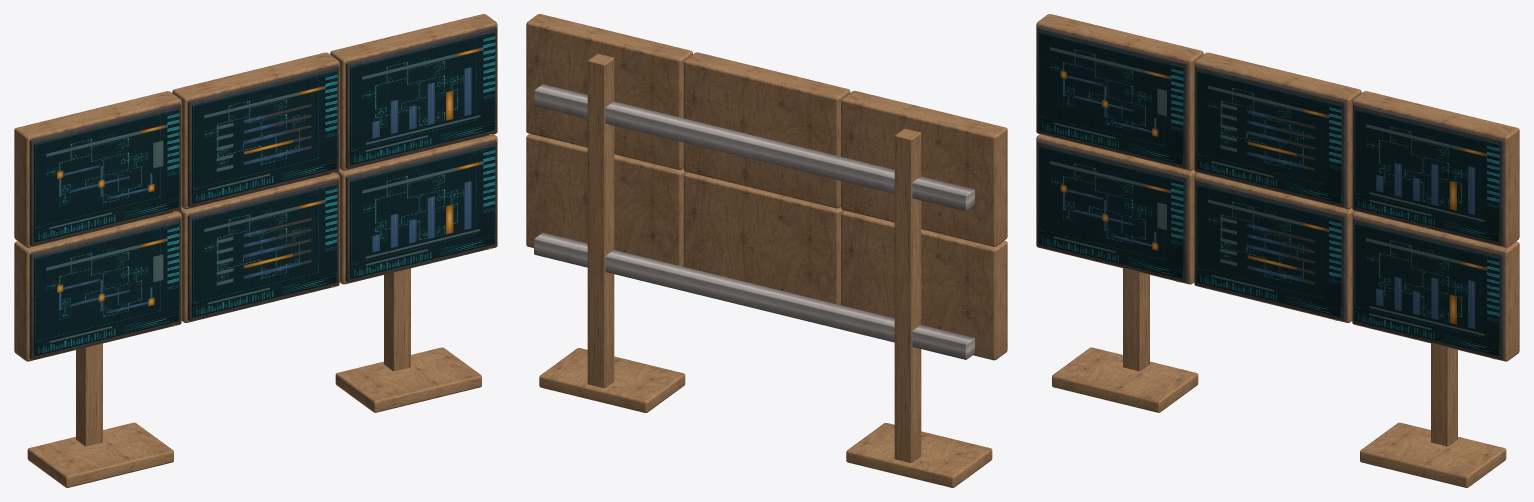
The model's file is SM_FacilityRooms_MonitorWall.fbx.
3 renders of one model, left to right at view 1: azimuth 30°, elevation 25°; view 2: azimuth 150°, elevation 25°; view 3: azimuth 330°, elevation 25°, orthographic.
Parts seen in each view (by area): view 1: SM_FacilityRooms_MonitorWall; view 2: SM_FacilityRooms_MonitorWall; view 3: SM_FacilityRooms_MonitorWall.
Part boxes in pixels (box(x1,y1,x2,y2)): SM_FacilityRooms_MonitorWall: box(14, 14, 497, 487); SM_FacilityRooms_MonitorWall: box(526, 14, 1007, 487); SM_FacilityRooms_MonitorWall: box(1036, 14, 1519, 487).
Size of what is drawn, in the model's own units: 240 by 35 by 170.
